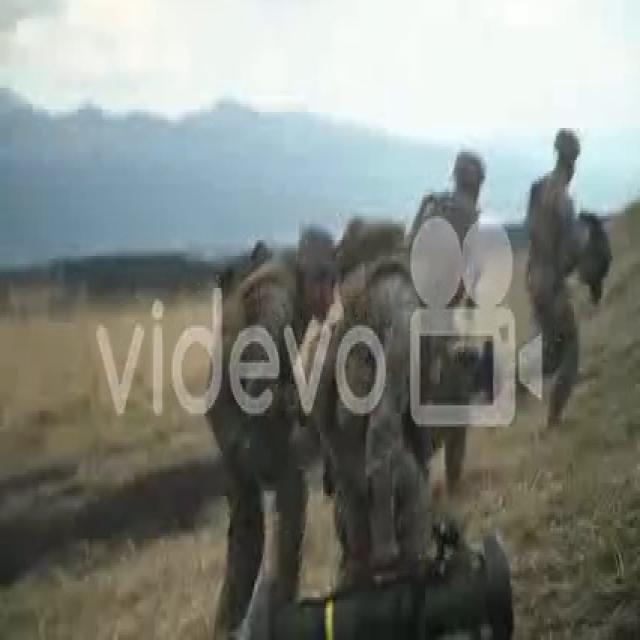bazooka: (274, 534, 515, 640)
